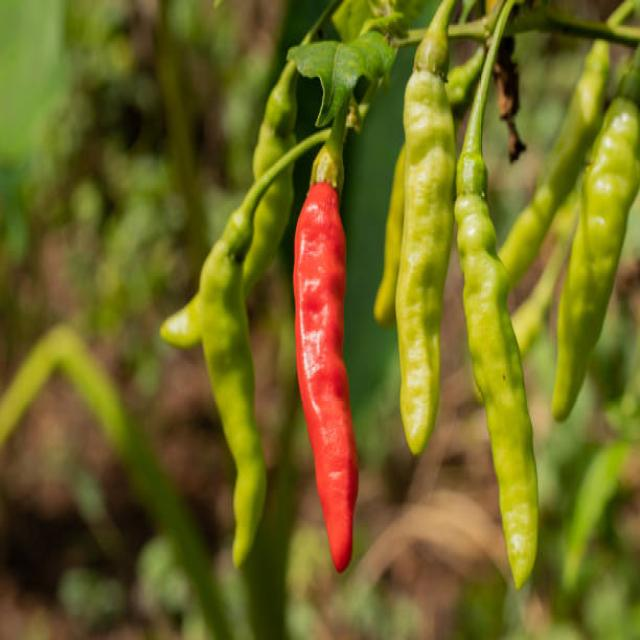Ripe: (294, 182, 357, 571)
Unripe: (455, 190, 536, 587), (552, 99, 639, 419), (193, 238, 265, 565), (395, 82, 454, 453)
